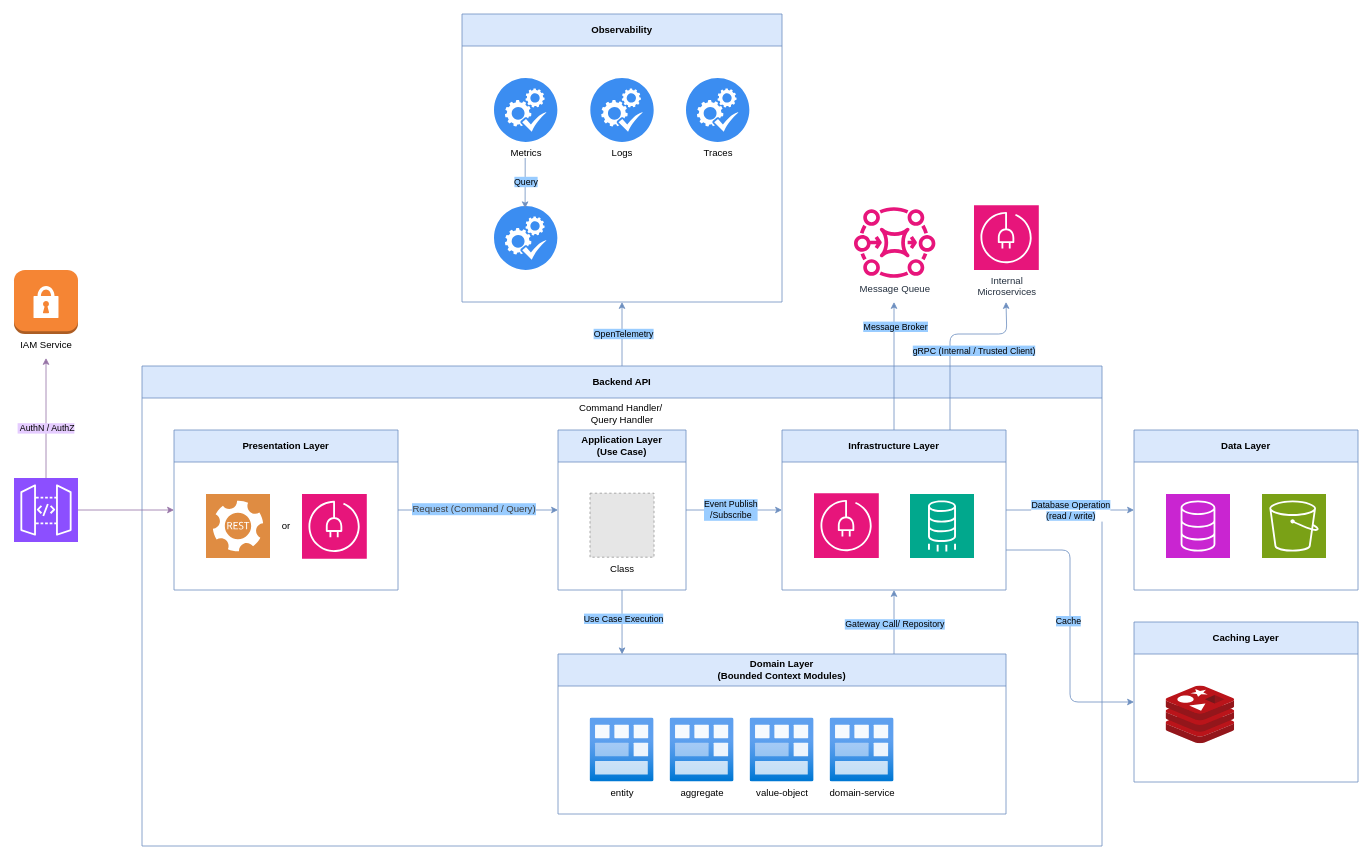
Image size: 1372x860. Some labels were removed from this diagram. Grey dashed boxes stand in for pictures. Here are the shapes that lost their labels. From the top down, the centre of each, then its label:
At [525,238]: "Visualize".
At [45,509]: "API Gateway".
At [238,526]: "REST API".
At [334,526]: "gRPC".
At [846,525]: "External Integrations".
At [941,525]: "Persistence Adapter".
At [1197,525]: "Relational Database".
At [1293,525]: "Object Storage".
At [1200,714]: "Cache Memory".
